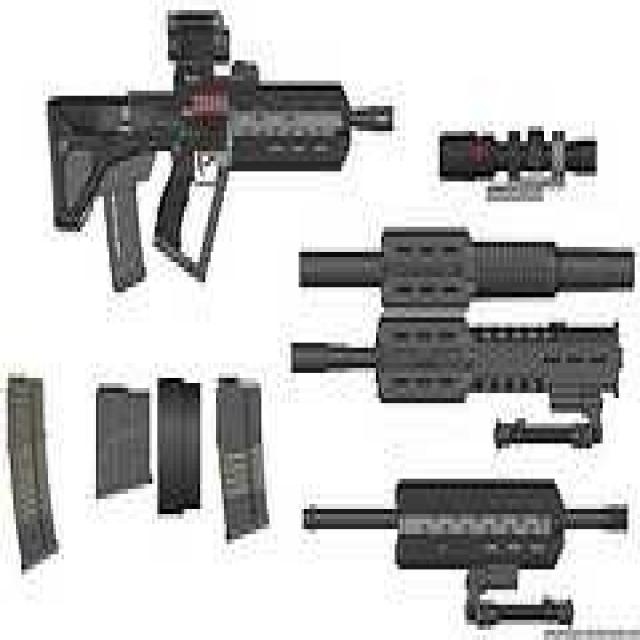RifleTel: (48, 8, 398, 242)
